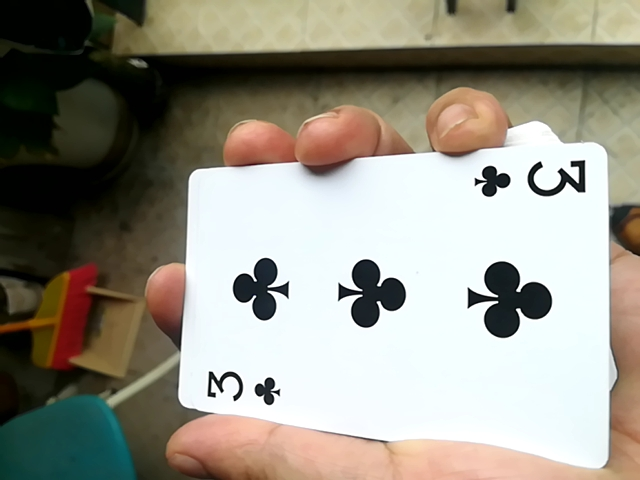mh 3: (165, 139, 616, 463)
